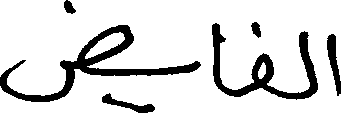ا: (323, 31, 339, 95), (208, 21, 222, 94)
ض: (0, 0, 134, 111)
ف: (247, 19, 274, 94)
ل: (296, 28, 319, 99)
ي: (121, 59, 200, 112)
